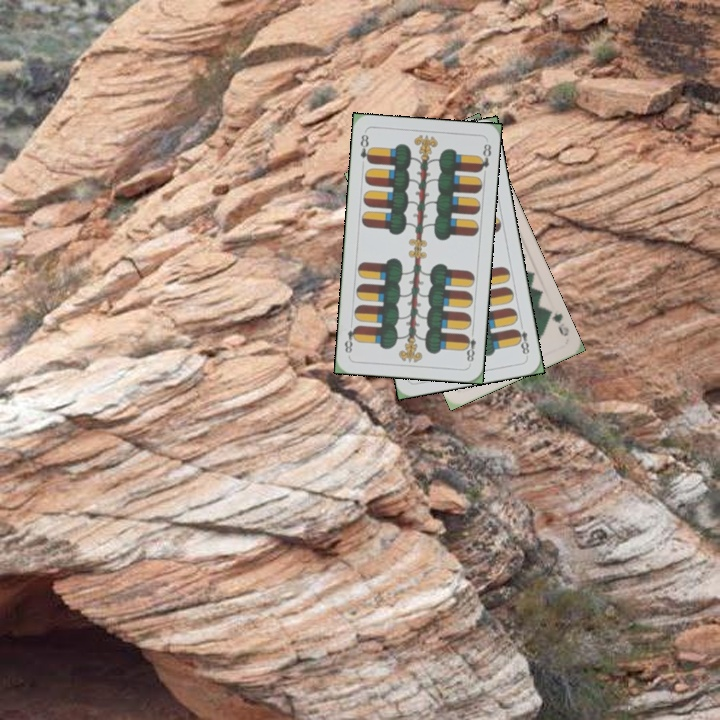E8: (511, 319, 532, 359), (460, 326, 478, 364), (356, 130, 374, 166)
G9: (542, 305, 572, 339)
